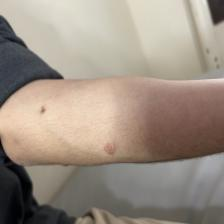Dermatitis numularis: (102, 138, 122, 164)
